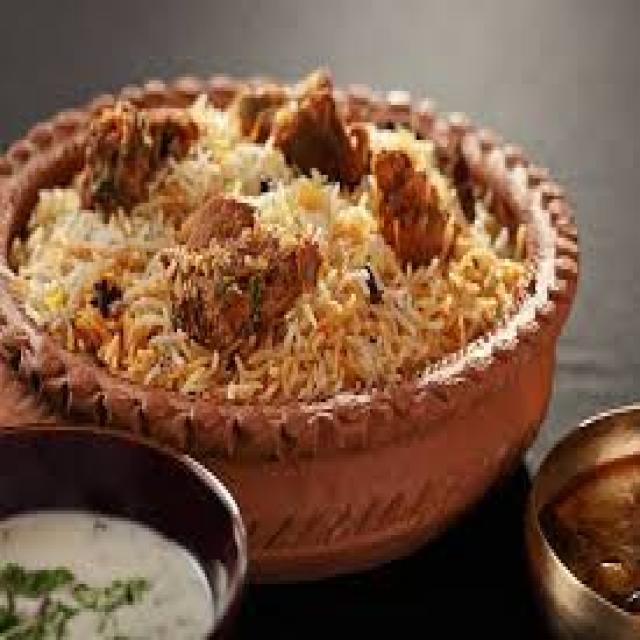Wet Waste: (2, 82, 536, 401)
